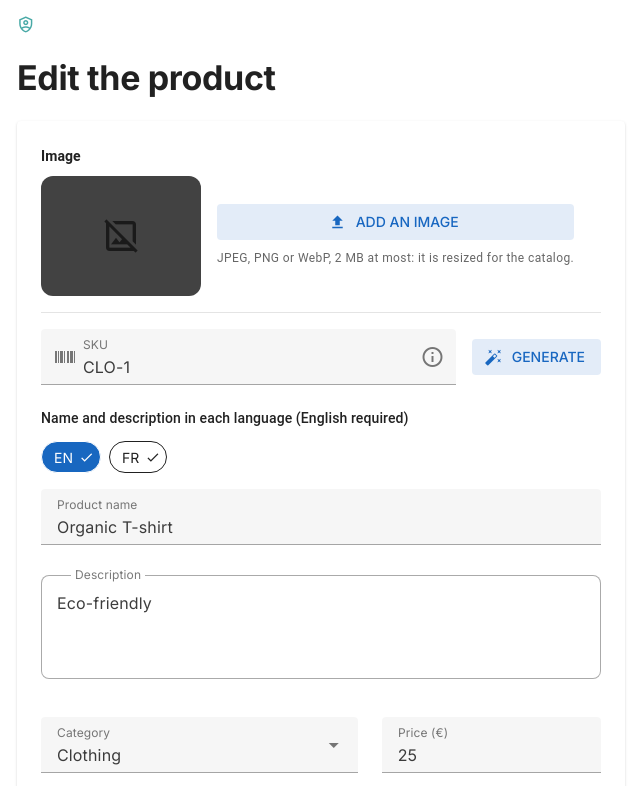
Scenario: EditProduct.vue › shows the name and the description in the language of the chip chosen
Click the element showing "FR" at coordinates (138, 457), box 109,441 -> 167,473
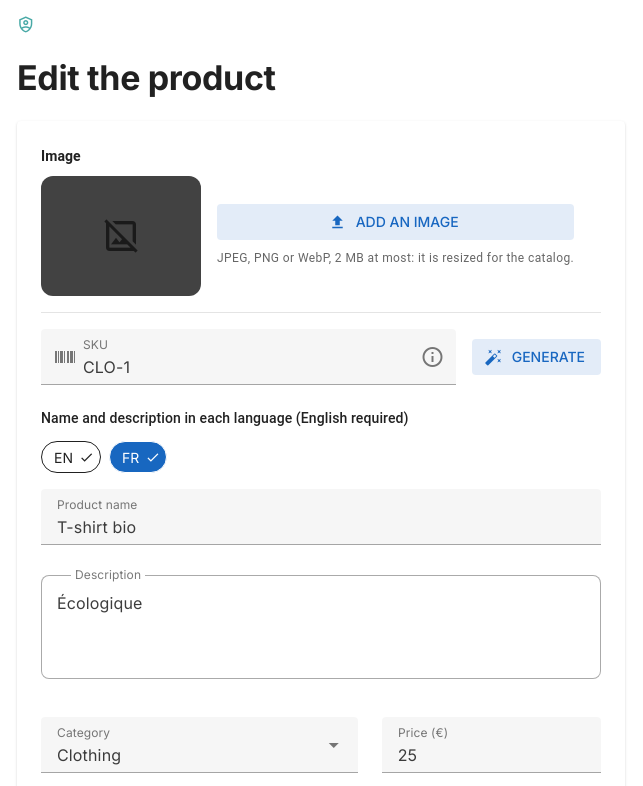
Now the field labelled "Product name" holds "T-shirt bio", box 41,489 -> 601,545
